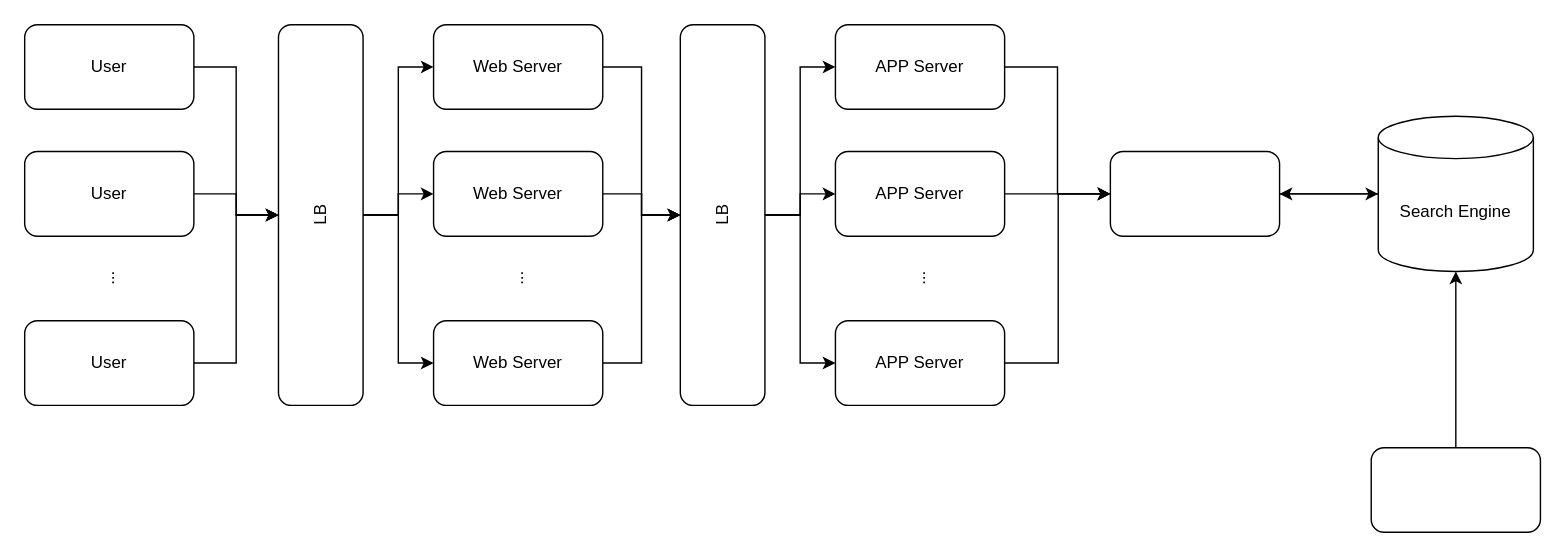
Image size: 1565x557. Some labels were removed from this diagram. The box of each missing label's shape, as (x1, y1, x2, y2) in pixels:
Search Cache: (1109, 150, 1280, 236)
Tweet Service: (1370, 446, 1540, 532)
